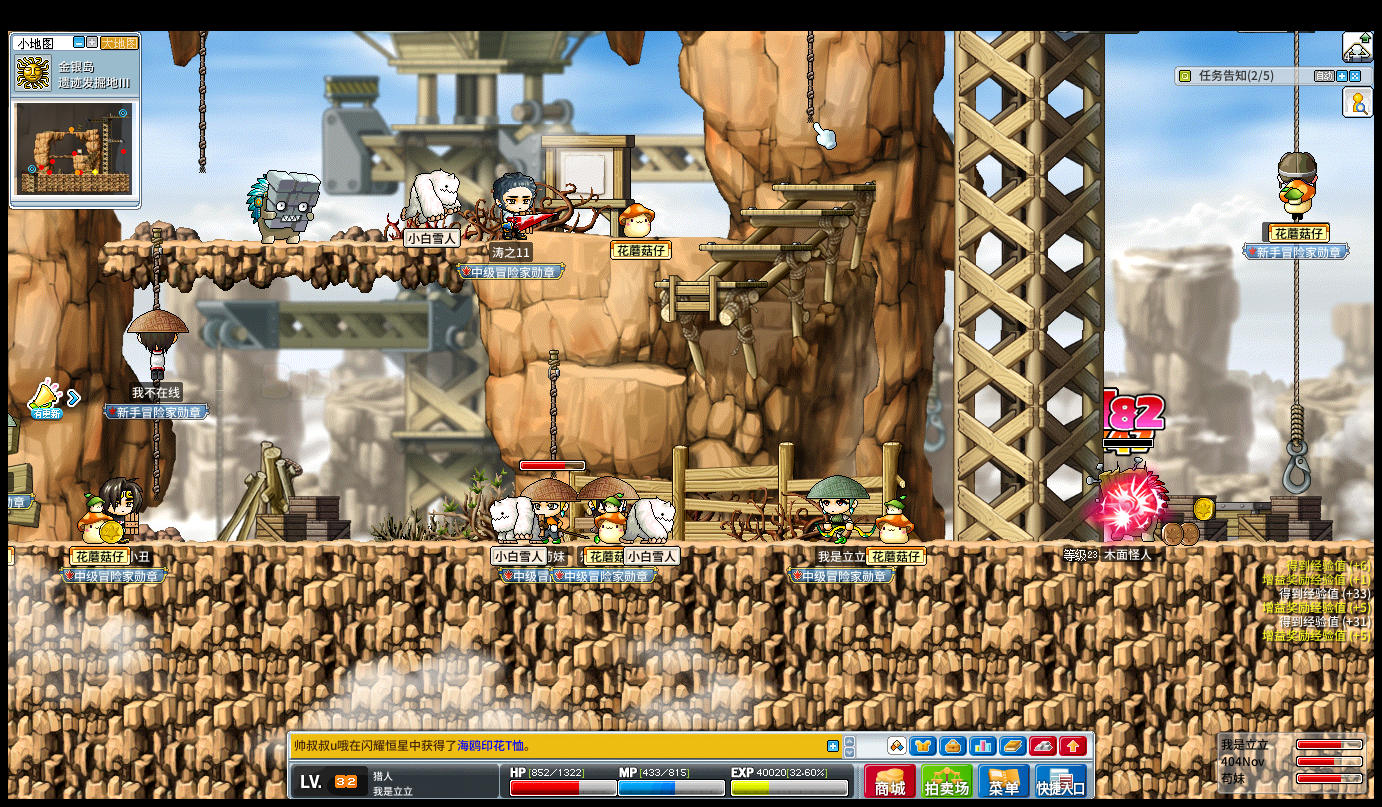floor: (1087, 457, 1171, 543), (97, 240, 487, 251), (580, 364, 689, 386), (651, 279, 763, 288), (741, 207, 846, 215), (773, 183, 876, 190)
monster: (245, 169, 322, 243)
rope: (1292, 257, 1304, 418), (547, 349, 561, 463), (198, 32, 207, 176), (151, 225, 164, 308), (151, 418, 164, 501), (803, 31, 814, 124), (806, 31, 815, 123), (151, 411, 160, 497), (1293, 31, 1299, 151), (1289, 399, 1304, 445)
